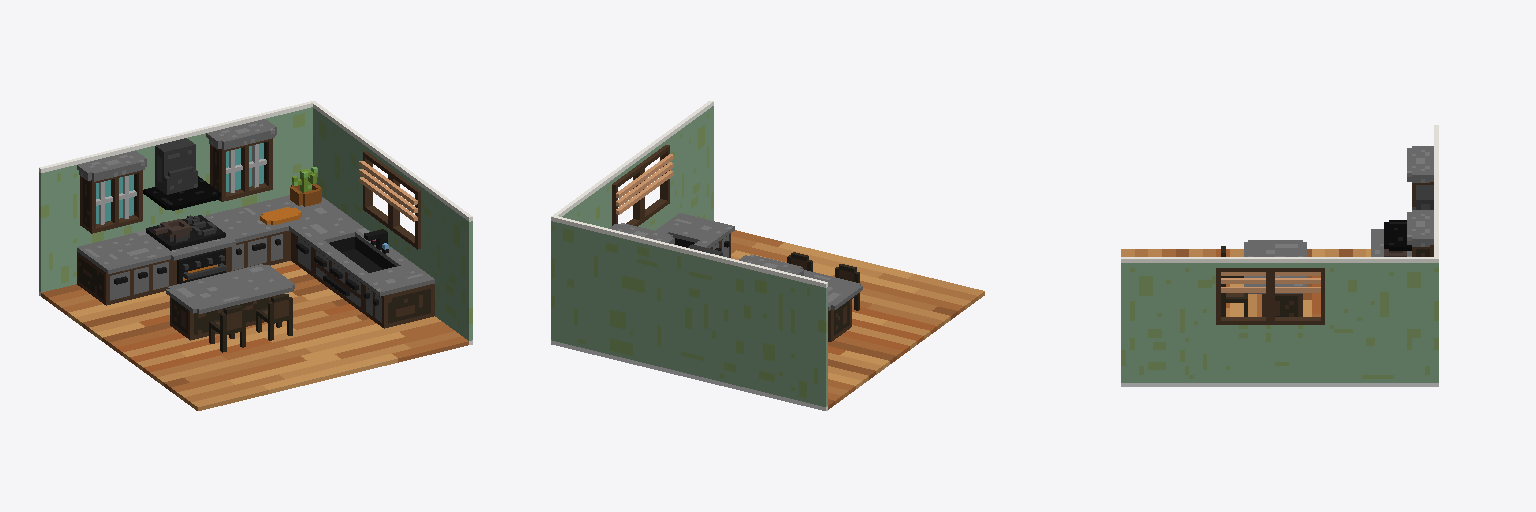
3 views of the same model, side by side, from view 1: azimuth 30°, elevation 25°; view 2: azimuth 150°, elevation 25°; view 3: azimuth 270°, elevation 25° (orthographic).
Parts seen in each view (by area): view 1: object 1; view 2: object 1; view 3: object 1.
Boxes of the visible parts, box(x1,y1,x2,y2) form: object 1: box(39, 101, 472, 410); object 1: box(551, 101, 984, 410); object 1: box(1121, 125, 1438, 386).
Size of the model in its own units: 7 by 3.1 by 7.
Materials: 1 (1 with a texture image).